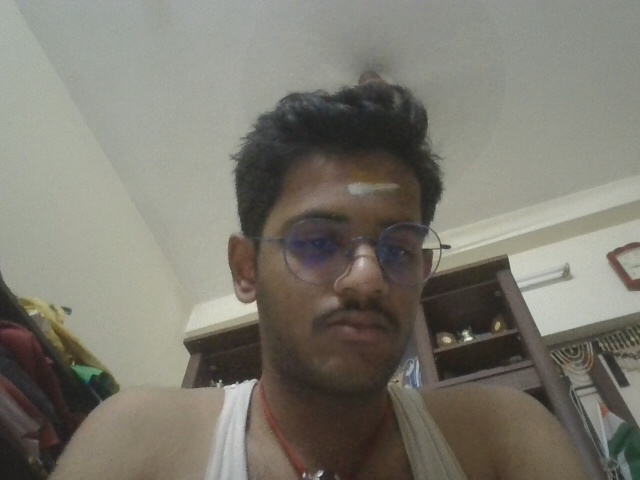real: (248, 160, 466, 378)
